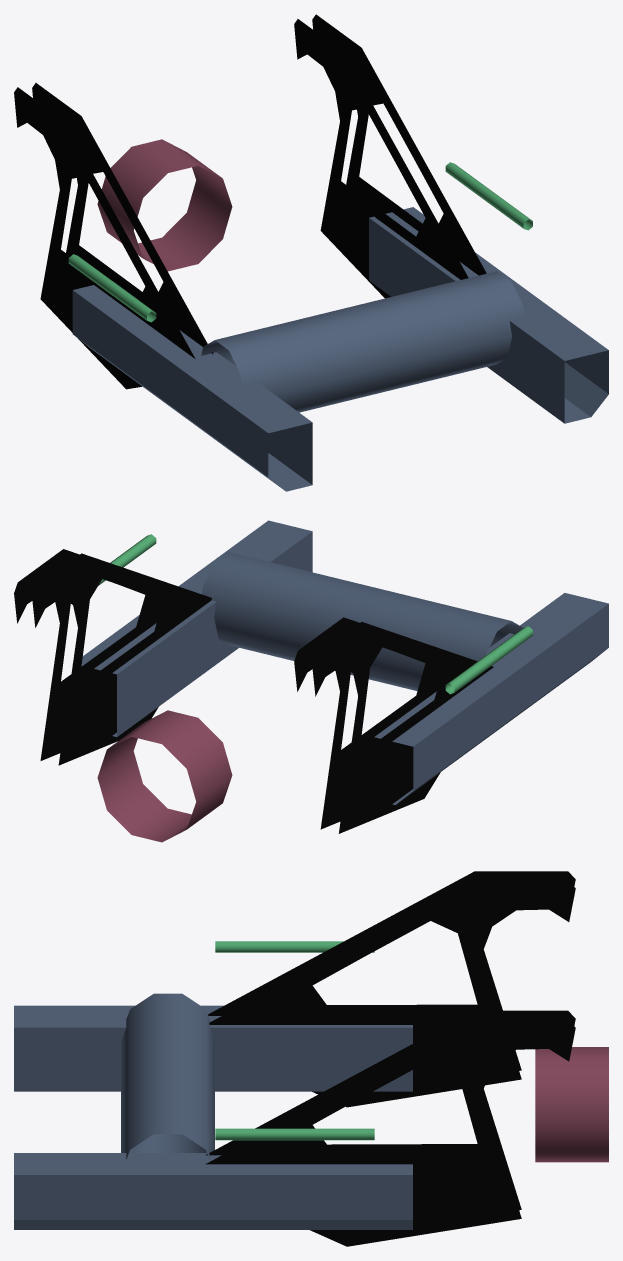
File: mech 1 static lod2.FBX
3 views of the same model, one above another, from view 1: azimuth 30°, elevation 25°; view 2: azimuth 150°, elevation 25°; view 3: azimuth 270°, elevation 25° (orthographic).
Parts seen in each view (by area): view 1: Object1056; view 2: Object1056; view 3: Object1056.
Boxes of the visible parts, bbox=[...] form: Object1056: bbox=[14, 14, 608, 491]; Object1056: bbox=[14, 520, 608, 842]; Object1056: bbox=[14, 871, 608, 1246].
Size of the model in its own units: 1.95 by 1.08 by 2.56.
